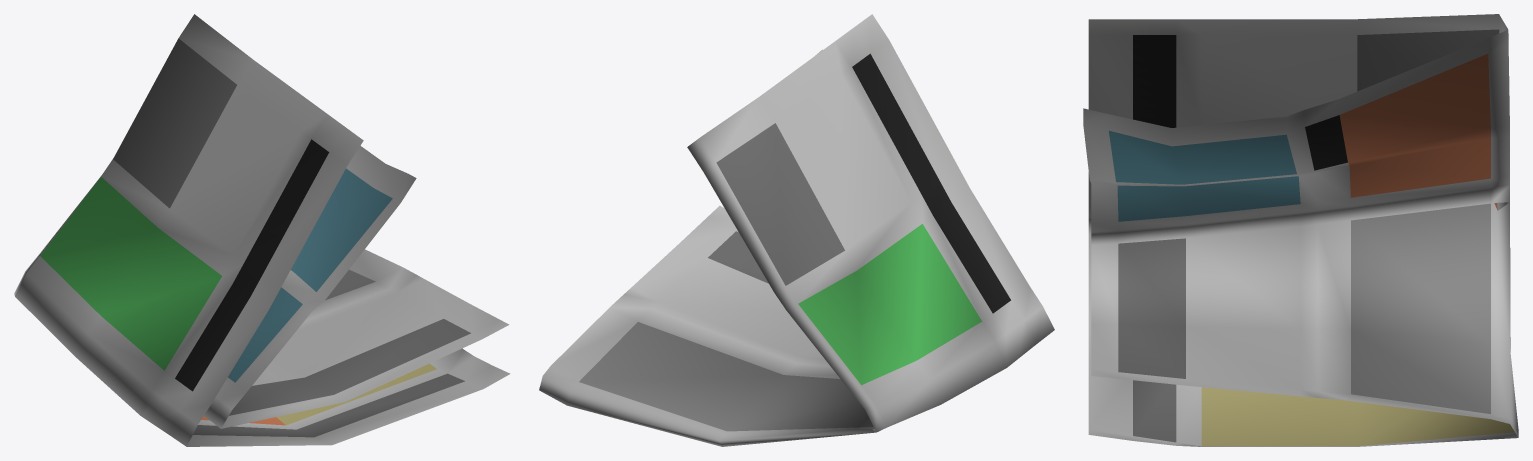
File: furnishings-trash-oldnewspaper_v1.glb
The picture shows the model from 3 angles, left to right: view 1: azimuth 30°, elevation 25°; view 2: azimuth 150°, elevation 25°; view 3: azimuth 270°, elevation 25°; orthographic projection. The views are drawn at different scales.
Visible parts, largest first — view 1: OldNewspaper_v1; view 2: OldNewspaper_v1; view 3: OldNewspaper_v1.
Boxes of the visible parts, x1,y1,x2,y2 form: OldNewspaper_v1: [14, 14, 510, 446]; OldNewspaper_v1: [539, 14, 1054, 446]; OldNewspaper_v1: [1083, 14, 1518, 446].
Bounding box in the file's own units: 0.0103 × 0.00946 × 0.00972.
